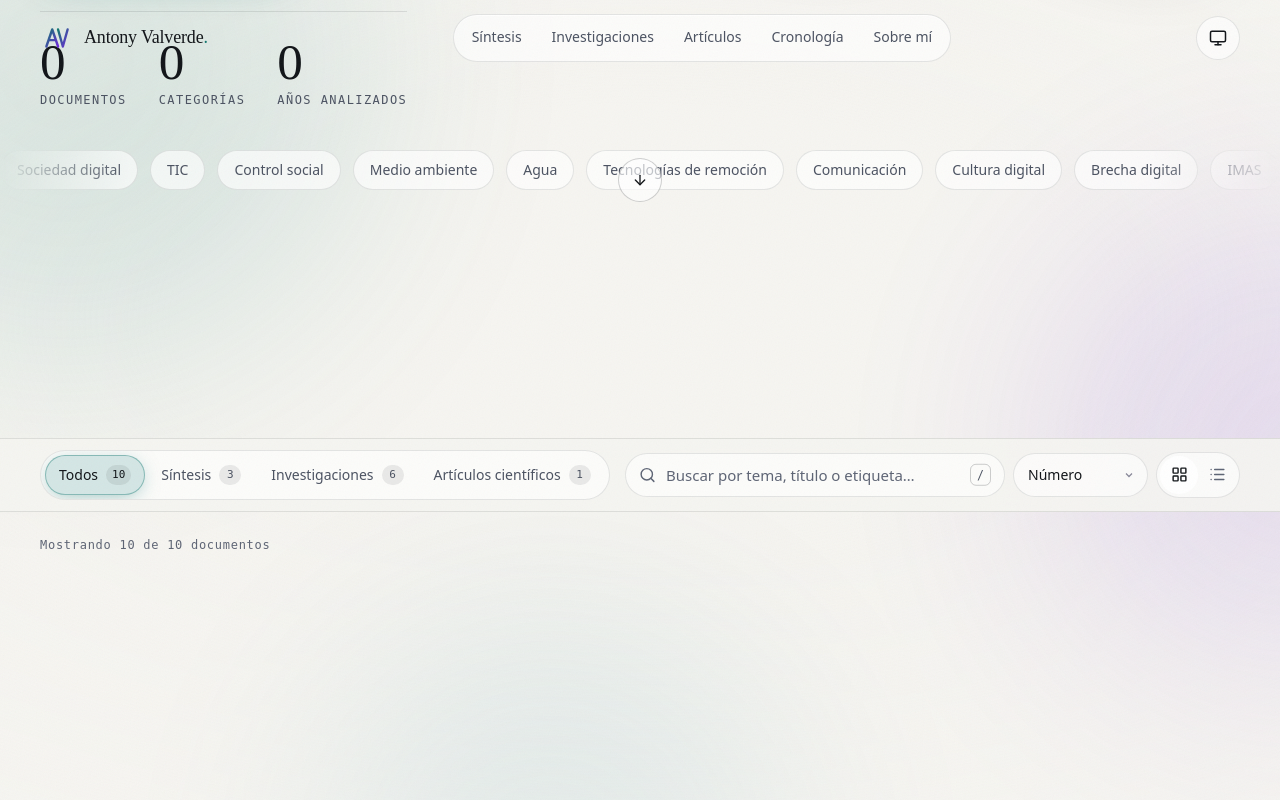
Test: App › muestra estado vacío y permite limpiar
(page scrolled)
Type "zzzz" into the search field named "Buscar documentos" at point(815, 475), box [625,453,1005,497]
(page scrolled)
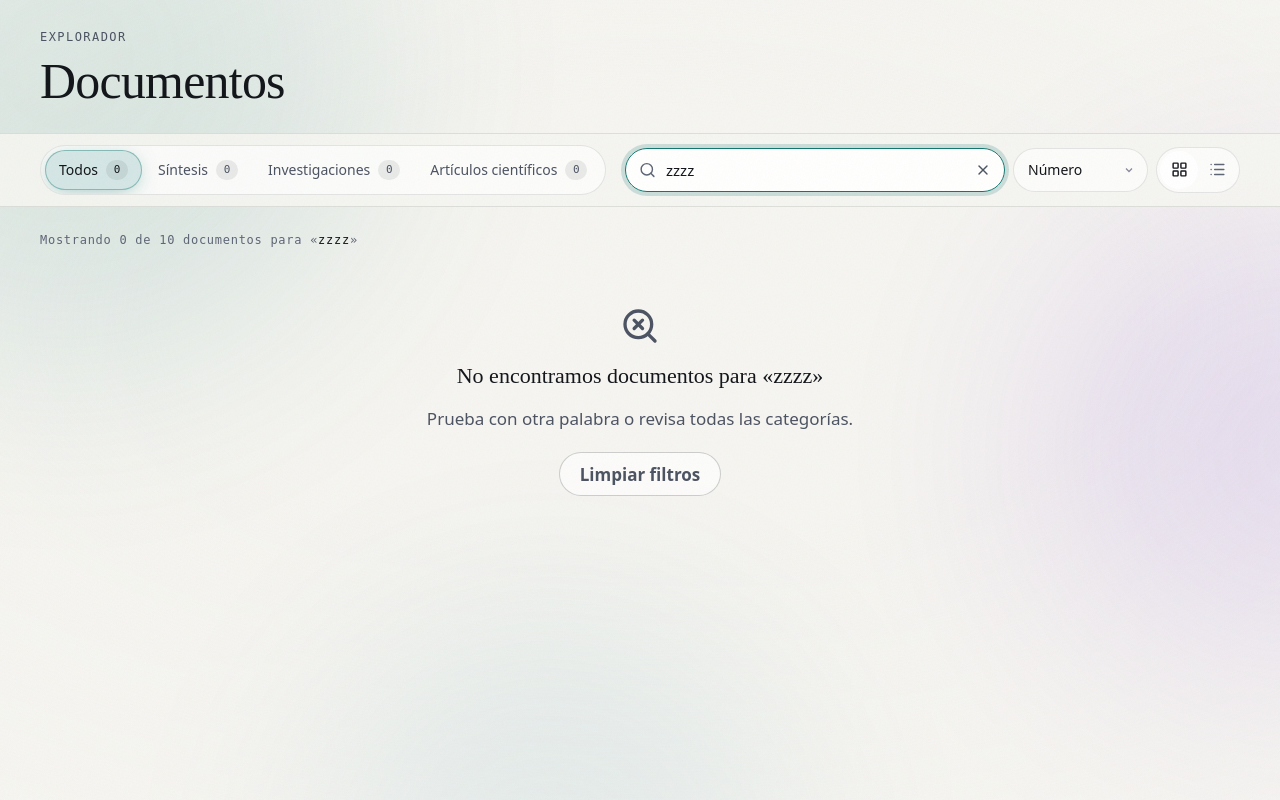
Click the button "Limpiar filtros" at point(640, 474), box [559,452,721,496]
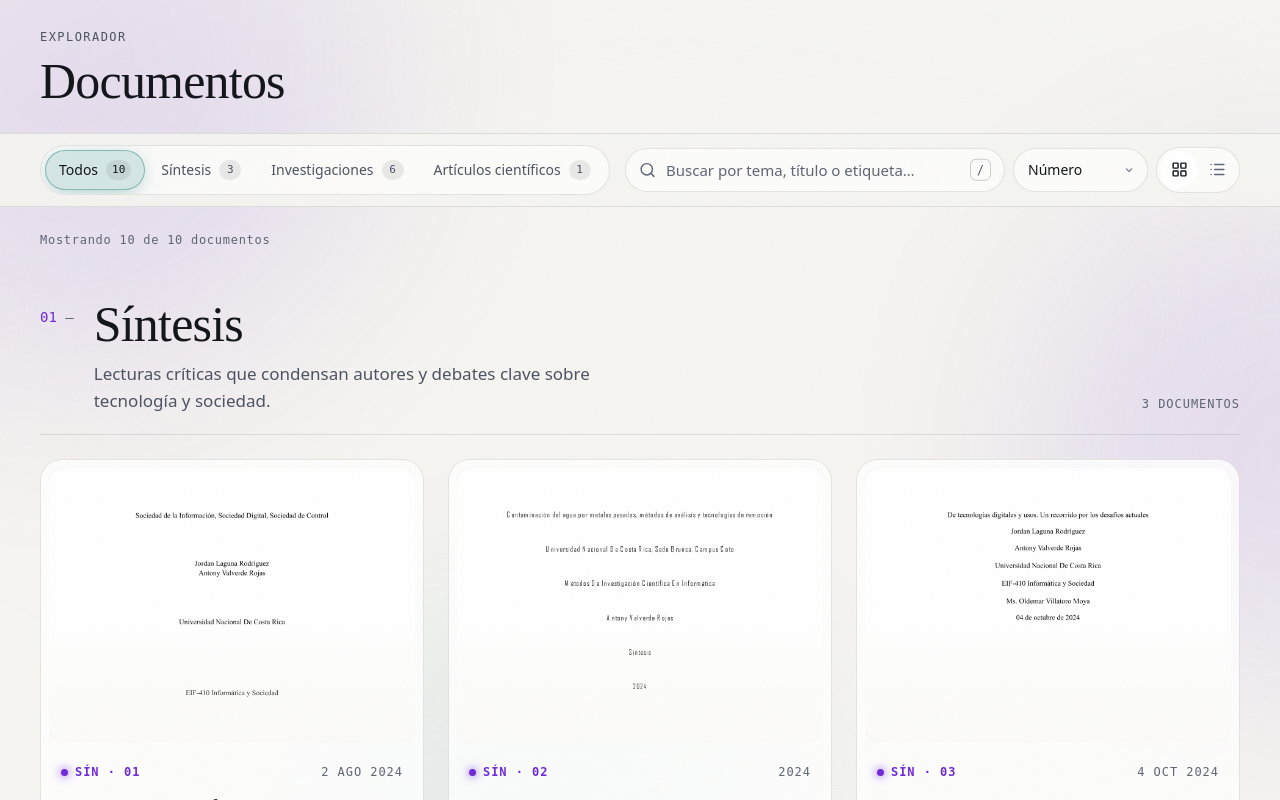
Expected: the search field named "Buscar documentos" is empty, [625,148,1005,192]
